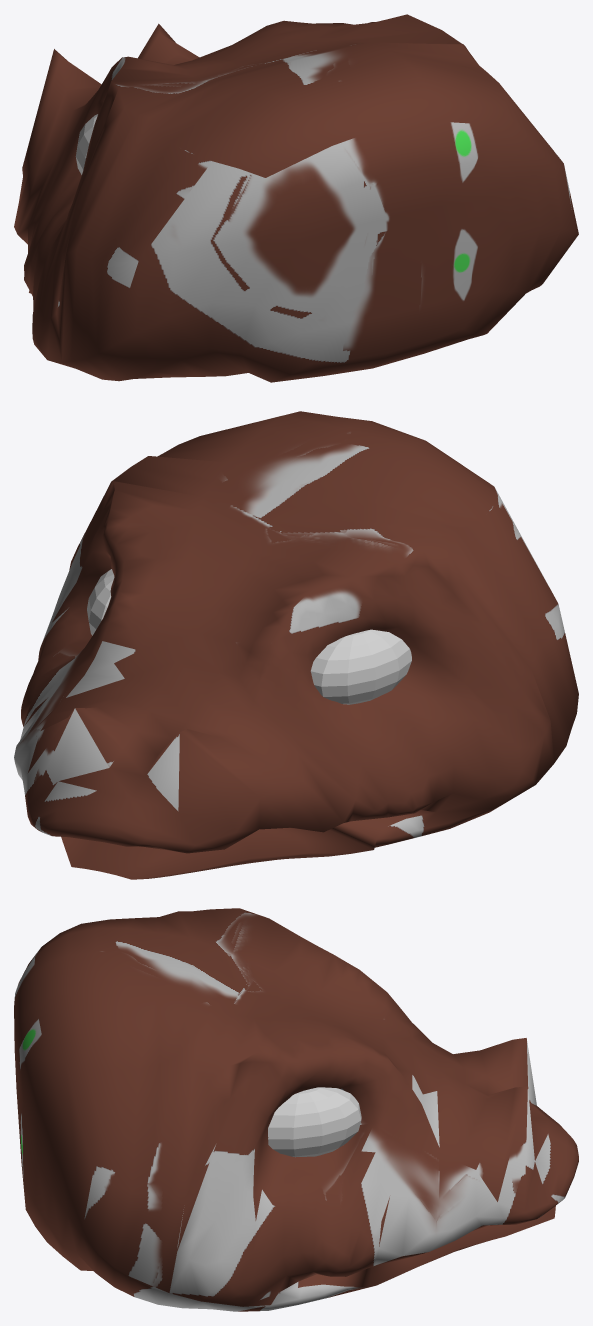
The model's file is Nyoo Crâne.fbx.
3 renders of one model, top to bottom at view 1: azimuth 30°, elevation 25°; view 2: azimuth 150°, elevation 25°; view 3: azimuth 270°, elevation 25°, orthographic. The views are drawn at different scales.
Visible parts, largest first — view 1: tete; view 2: tete; view 3: tete.
Boxes of the visible parts, x1,y1,x2,y2 form: tete: (14, 14, 578, 382); tete: (14, 411, 578, 879); tete: (14, 908, 578, 1311).
Bounding box in the file's own units: 195 × 114 × 209.
